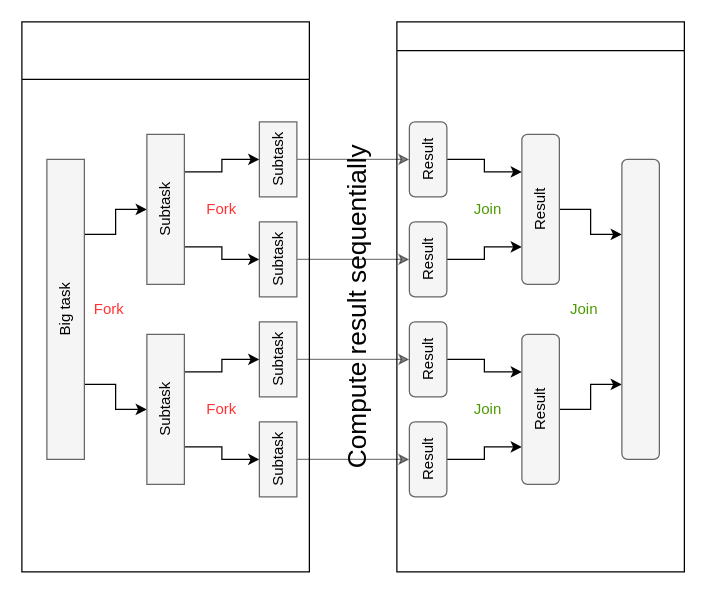
The diagram is 706 pixels wide and 594 high, and some of its shapes have lost their labels. The box of each missing label's shape, as (x1, y1, x2, y2) in pixels:
End result: (621, 158, 659, 459)
Join the results: (396, 21, 684, 572)
Recursively split the task until small enough: (21, 21, 309, 572)
